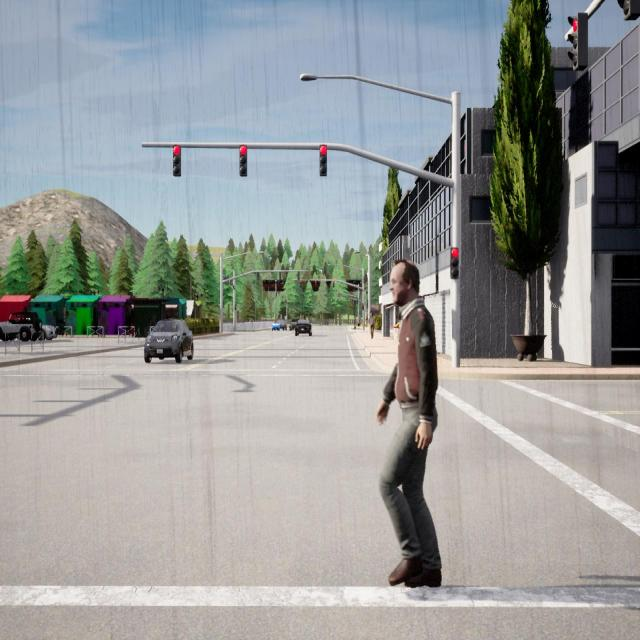Pedestrian: (376, 260, 441, 587), (368, 312, 374, 339)
Vehicle: (144, 319, 194, 363), (0, 312, 43, 342), (295, 319, 312, 336), (44, 324, 58, 340), (276, 319, 287, 331), (290, 318, 298, 331), (272, 322, 280, 332)
traffic_light: (566, 10, 588, 72), (619, 0, 640, 20), (449, 246, 459, 280), (318, 144, 328, 177), (172, 145, 182, 177), (239, 144, 247, 176), (298, 271, 300, 280), (300, 280, 302, 288), (279, 272, 281, 280), (258, 272, 260, 280), (362, 303, 364, 310), (315, 280, 317, 286), (364, 276, 366, 282), (338, 292, 340, 297), (366, 274, 367, 282), (333, 281, 334, 287), (235, 304, 236, 310), (348, 299, 350, 302), (331, 298, 332, 302), (339, 298, 340, 302)
